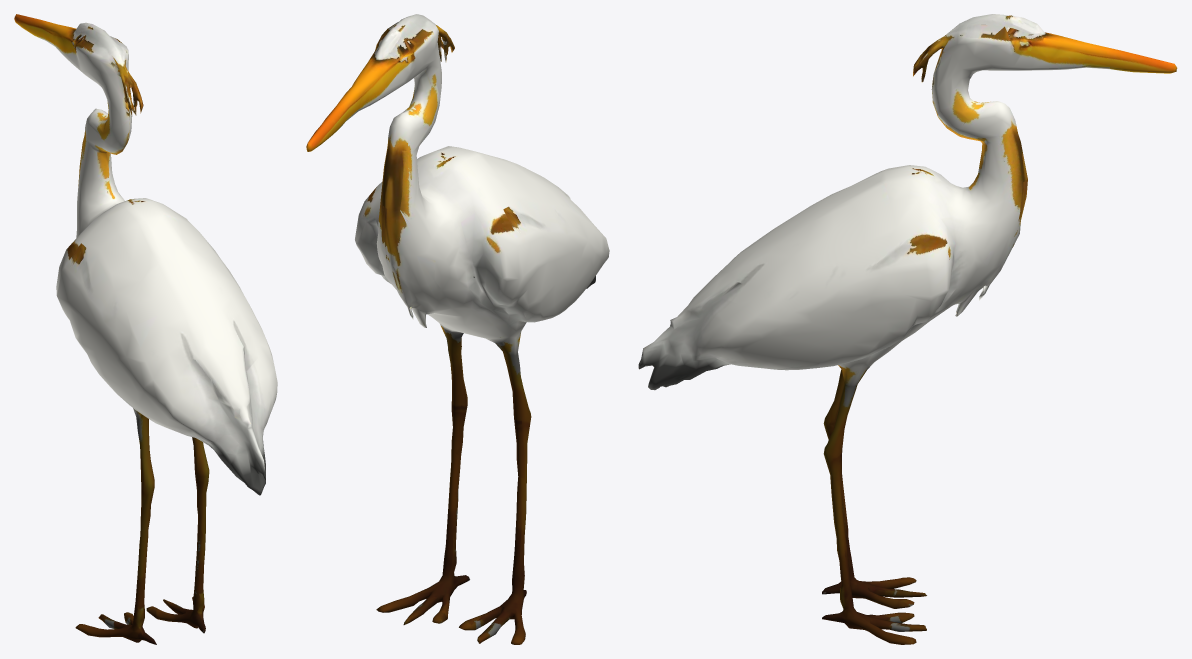
Rendered from egret.glb.
3 views of the same model, side by side, from view 1: azimuth 30°, elevation 25°; view 2: azimuth 150°, elevation 25°; view 3: azimuth 270°, elevation 25° (orthographic). The views are drawn at different scales.
Visible parts, largest first — view 1: egret; view 2: egret; view 3: egret.
Part boxes in pixels (<box>): egret: <box>14,14,277,644</box>; egret: <box>306,14,609,644</box>; egret: <box>638,14,1177,644</box>.
Bounding box in the file's own units: 0.2823 × 1.04 × 0.8408.
Materials: 1 (1 with a texture image).
